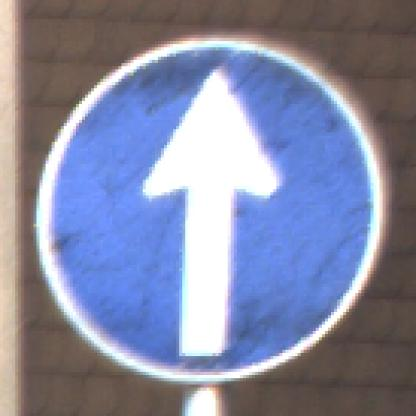AheadOnly: (38, 39, 384, 382)
